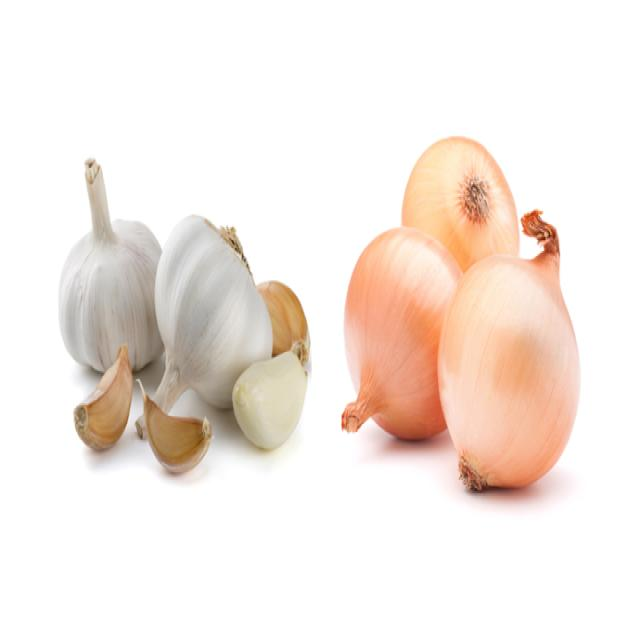onion: (340, 131, 582, 509), (55, 150, 315, 488)
